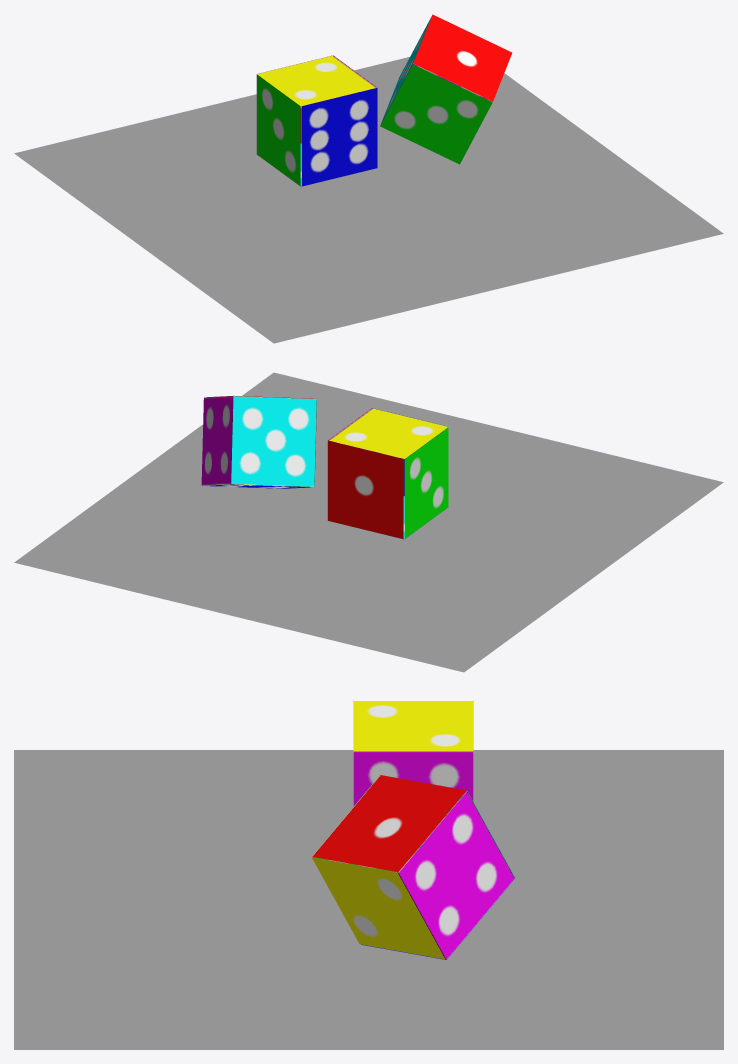
File: dice.obj
The picture shows the model from 3 angles, top to bottom: view 1: azimuth 30°, elevation 25°; view 2: azimuth 150°, elevation 25°; view 3: azimuth 270°, elevation 25°; orthographic projection. The views are drawn at different scales.
Visible parts, largest first — view 1: Plane, Die, RollingDie; view 2: Plane, Die, RollingDie; view 3: Plane, RollingDie, Die.
Part boxes in pixels (x1,y1,x2,y2): Plane: [14, 57, 723, 343]; Die: [256, 55, 377, 186]; RollingDie: [380, 14, 512, 164]; Plane: [14, 372, 723, 672]; Die: [327, 408, 448, 539]; RollingDie: [201, 395, 316, 488]; Plane: [14, 750, 723, 1049]; RollingDie: [311, 775, 515, 959]; Die: [353, 701, 473, 806].
Size of the model in its own units: 11.73 by 3.2 by 11.73.
Materials: 2 (1 with a texture image).
